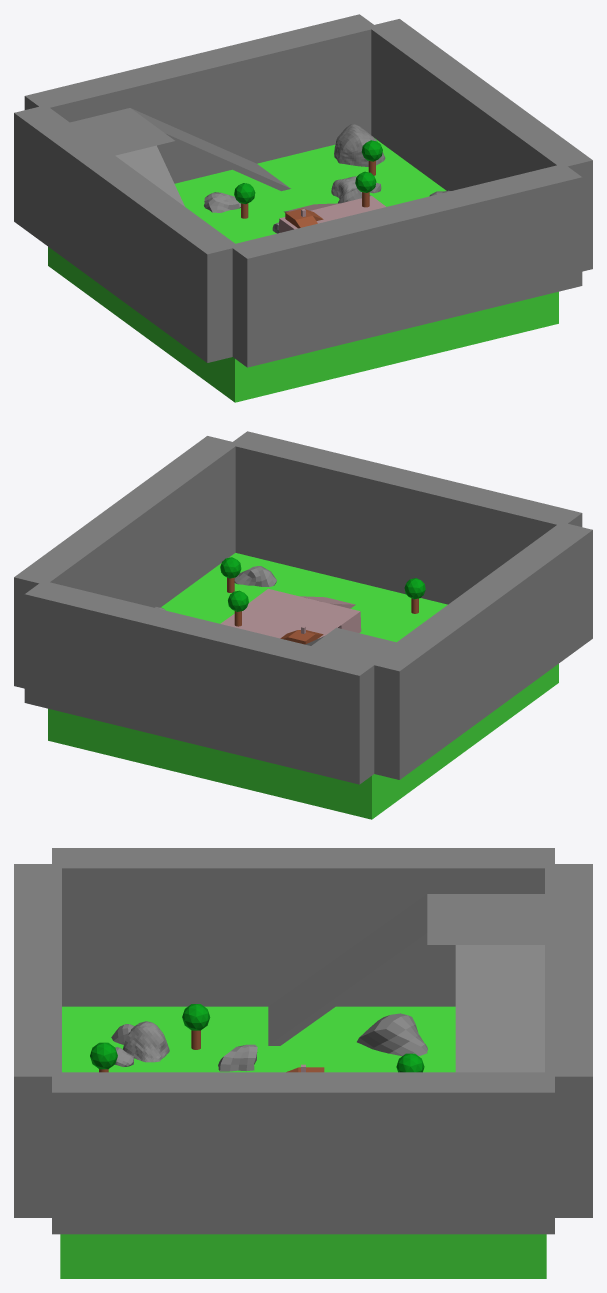
The model's file is P1 Map.fbx.
3 renders of one model, top to bottom at view 1: azimuth 30°, elevation 25°; view 2: azimuth 150°, elevation 25°; view 3: azimuth 270°, elevation 25°, orthographic. The views are drawn at different scales.
Visible parts, largest first — view 1: Cube.002, Cube.001, Cube.004, Ground, Cube.003, Cube.006, rock.005, Platform, rock.007, rock.011; view 2: Cube.004, Cube.002, Cube.001, Ground, Cube.003, Platform, Cube.006, rock.010; view 3: Cube.003, Cube.001, Ground, Cube.006, Cube.004, Cube.002, rock.008, rock.002, rock.001, Cylinder.002, Cylinder.003.
Part boxes in pixels (x1,y1,x2,y2): Cube.002: [229, 165, 582, 367]; Cube.001: [14, 105, 238, 362]; Cube.004: [24, 14, 377, 183]; Ground: [48, 138, 558, 402]; Cube.003: [371, 19, 592, 271]; Cube.006: [70, 108, 290, 206]; rock.005: [334, 124, 385, 166]; Platform: [279, 196, 385, 232]; rock.007: [331, 176, 370, 203]; rock.011: [204, 192, 240, 212]; Cube.004: [24, 580, 374, 784]; Cube.002: [233, 431, 582, 604]; Cube.001: [368, 522, 592, 779]; Ground: [48, 553, 558, 819]; Cube.003: [14, 436, 238, 688]; Platform: [220, 588, 361, 638]; Cube.006: [305, 627, 395, 660]; rock.010: [234, 566, 276, 586]; Cube.003: [52, 1072, 554, 1234]; Cube.001: [52, 848, 554, 1006]; Ground: [60, 1006, 546, 1278]; Cube.006: [268, 894, 544, 1072]; Cube.004: [545, 864, 592, 1217]; Cube.002: [14, 864, 61, 1217]; rock.008: [357, 1013, 427, 1056]; rock.002: [123, 1021, 169, 1062]; rock.001: [218, 1044, 257, 1071]; Cylinder.002: [182, 1004, 210, 1049]; Cylinder.003: [90, 1042, 117, 1072].
Size of the model in its own units: 11908 by 4669 by 11908.
